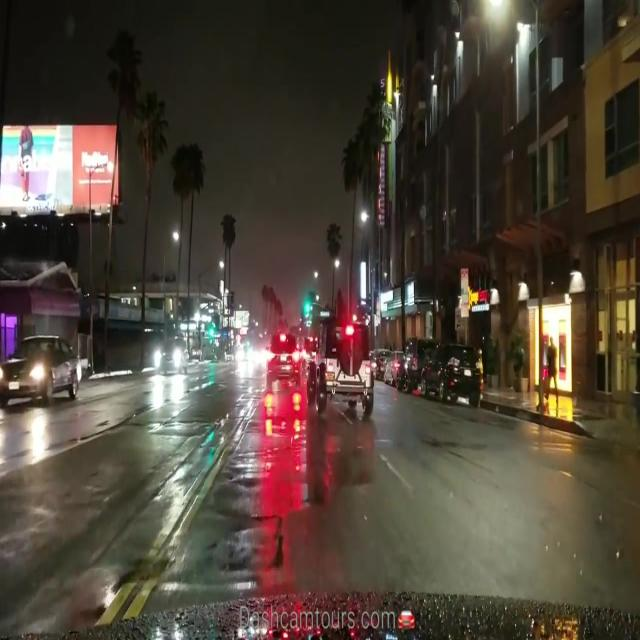Car: (311, 317, 372, 418), (0, 332, 81, 405), (419, 345, 480, 405), (266, 330, 302, 381)
